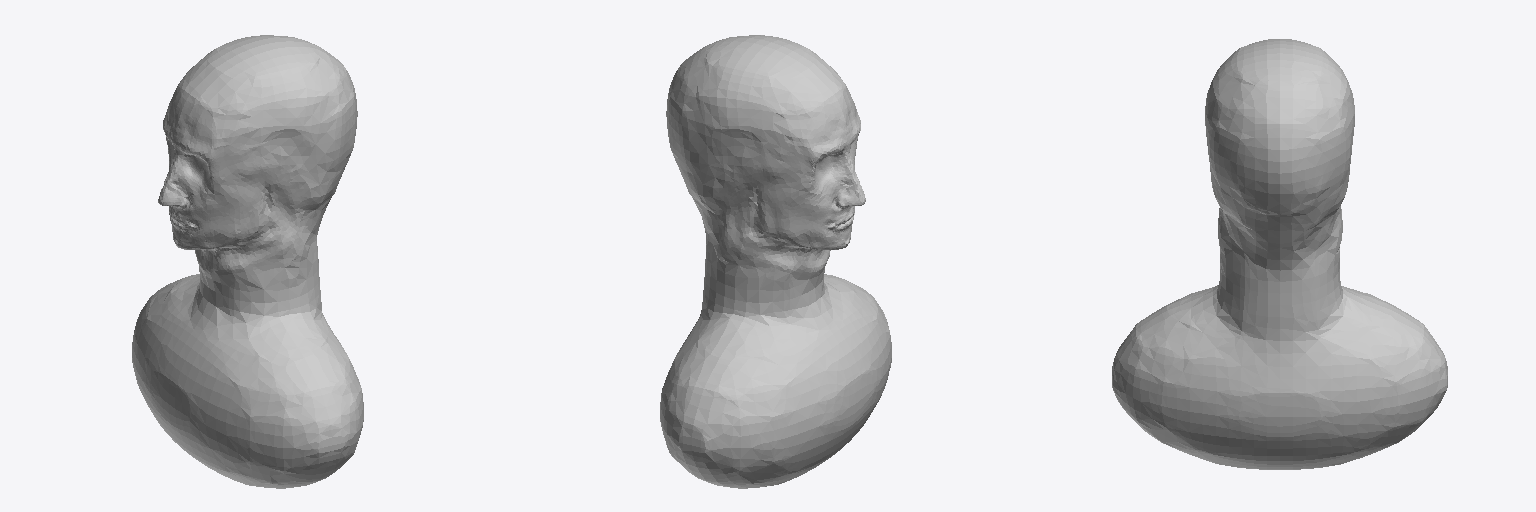
File: tete.obj
3 views of the same model, side by side, from view 1: azimuth 30°, elevation 25°; view 2: azimuth 150°, elevation 25°; view 3: azimuth 270°, elevation 25° (orthographic).
Visible parts, largest first — view 1: Mball.004_Mesh; view 2: Mball.004_Mesh; view 3: Mball.004_Mesh.
Boxes of the visible parts, x1=… form: Mball.004_Mesh: x1=132, y1=35, x2=363, y2=488; Mball.004_Mesh: x1=660, y1=35, x2=891, y2=488; Mball.004_Mesh: x1=1112, y1=39, x2=1447, y2=469.
Bounding box in the file's own units: 0.4851 × 1 × 0.7294.